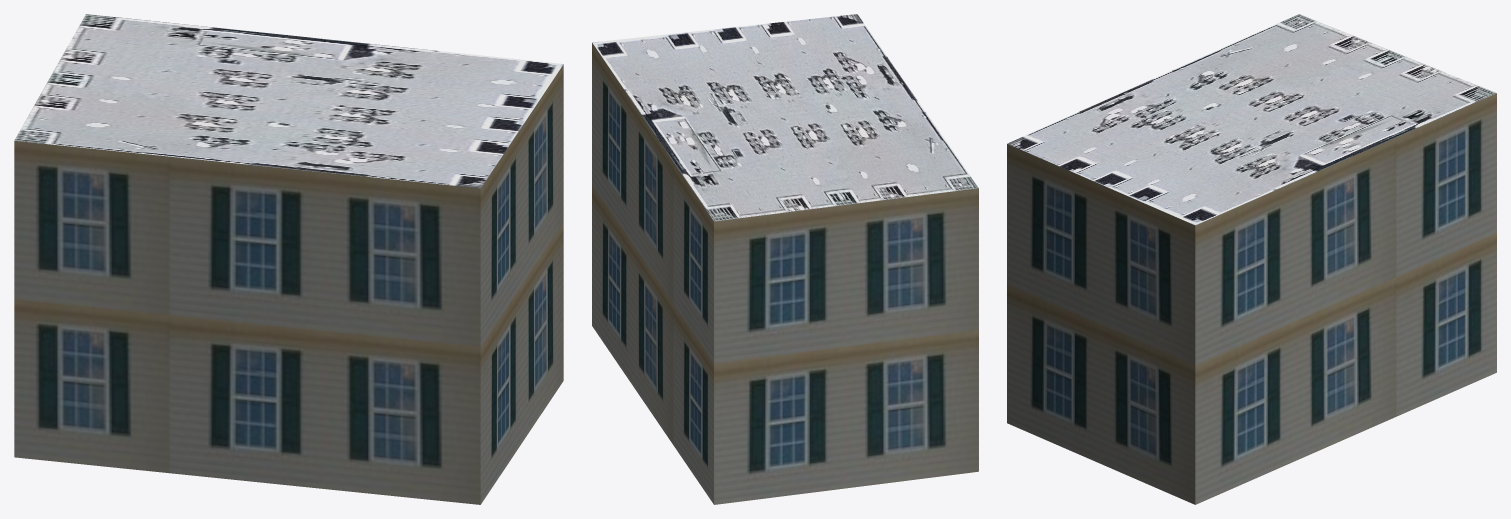
The model's file is ResTex__847.fbx.
3 views of the same model, side by side, from view 1: azimuth 30°, elevation 25°; view 2: azimuth 150°, elevation 25°; view 3: azimuth 270°, elevation 25° (orthographic). The views are drawn at different scales.
Parts seen in each view (by area): view 1: CityEngineMaterial_7_m, CityEngineMaterial_4_m; view 2: CityEngineMaterial_7_m, CityEngineMaterial_4_m; view 3: CityEngineMaterial_7_m, CityEngineMaterial_4_m.
Part boxes in pixels (box(x1,y1,x2,y2)): CityEngineMaterial_7_m: box(14, 64, 563, 504); CityEngineMaterial_4_m: box(14, 14, 563, 188); CityEngineMaterial_7_m: box(592, 43, 978, 504); CityEngineMaterial_4_m: box(592, 14, 978, 221); CityEngineMaterial_7_m: box(1007, 93, 1496, 504); CityEngineMaterial_4_m: box(1007, 14, 1496, 225).
Bounding box in the file's own units: 9.73 × 6 × 9.53.
2 materials, 2 textured.
